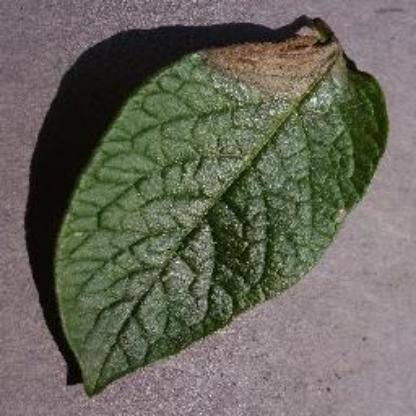Late-Blight: (48, 19, 388, 400)
